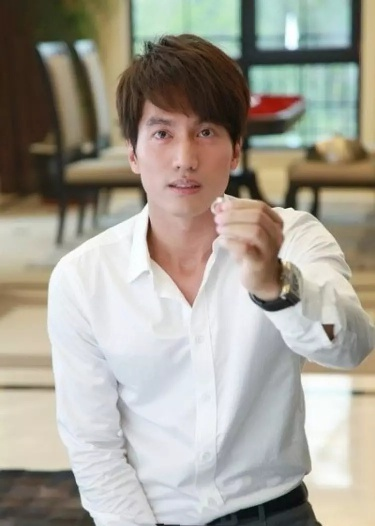male: (99, 21, 268, 236)
